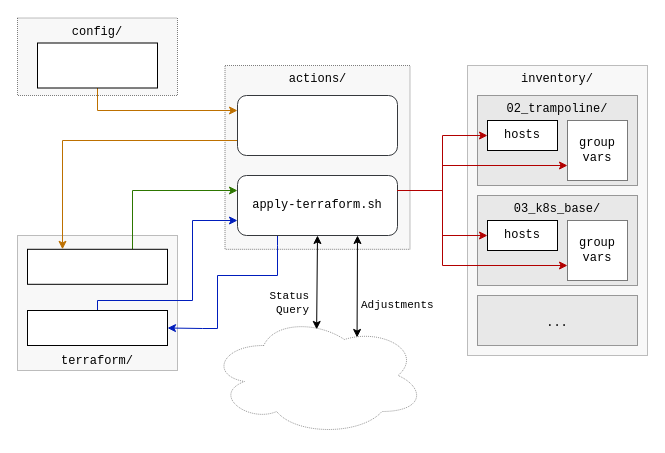
Some shapes in this 665 by 453 pixel diagram are drawn without their labels. Each missing label, with the centre of its shape:
config.tfvars.json: pixel 97 266
config.toml [terraform]: pixel 97 65
OpenStack API: pixel 317 375
terraform.tfstate: pixel 97 328
update_inventory.py: pixel 317 125
